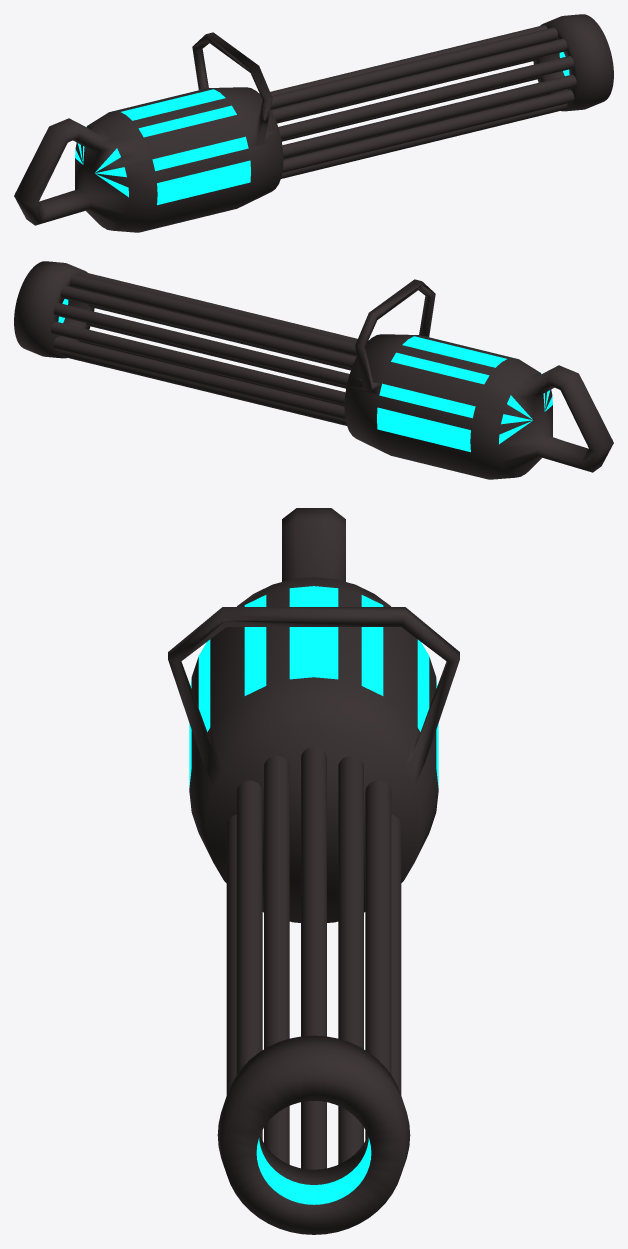
Rendered from Gattling.fbx.
The picture shows the model from 3 angles, top to bottom: view 1: azimuth 30°, elevation 25°; view 2: azimuth 150°, elevation 25°; view 3: azimuth 270°, elevation 25°; orthographic projection. The views are drawn at different scales.
Parts seen in each view (by area): view 1: Gattling, Lauf; view 2: Gattling, Lauf; view 3: Gattling, Lauf.
Part boxes in pixels (<box>): Gattling: <box>14,14,613,232</box>; Lauf: <box>270,25,576,178</box>; Gattling: <box>14,261,613,479</box>; Lauf: <box>51,272,357,425</box>; Gattling: <box>168,508,459,1234</box>; Lauf: <box>226,747,401,1169</box>.
Bounding box in the file's own units: 152 × 38.79 × 33.65.
